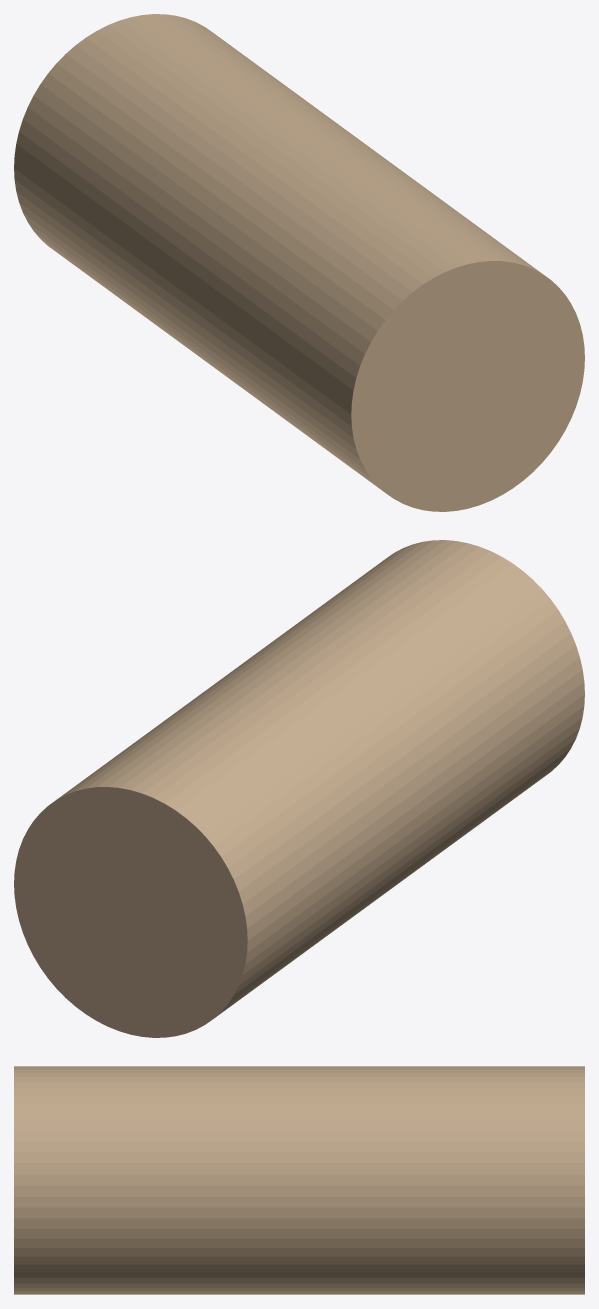
File: anode.glb
The picture shows the model from 3 angles, top to bottom: view 1: azimuth 30°, elevation 25°; view 2: azimuth 150°, elevation 25°; view 3: azimuth 270°, elevation 25°; orthographic projection. The views are drawn at different scales.
Parts seen in each view (by area): view 1: world; view 2: world; view 3: world.
Part boxes in pixels (left/top/right/bottom): world: left=14, top=14, right=584, bottom=511; world: left=14, top=540, right=584, bottom=1037; world: left=14, top=1066, right=584, bottom=1294.
Bounding box in the file's own units: 2 × 2 × 5.
